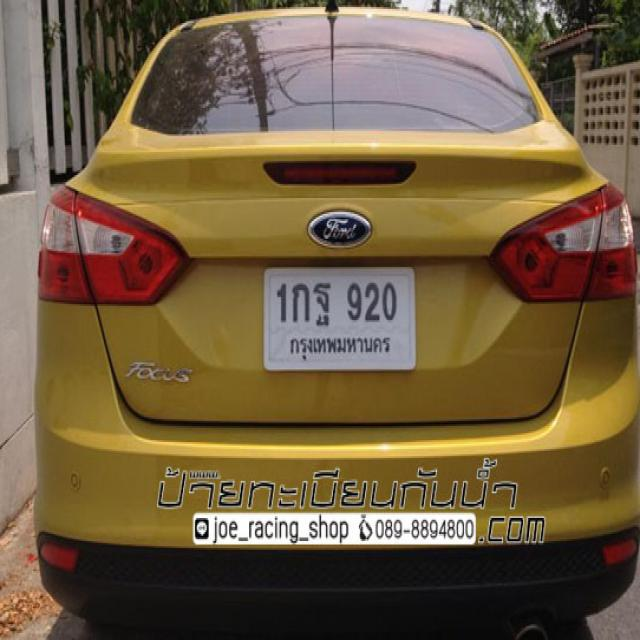license_plate: (263, 264, 417, 370)
